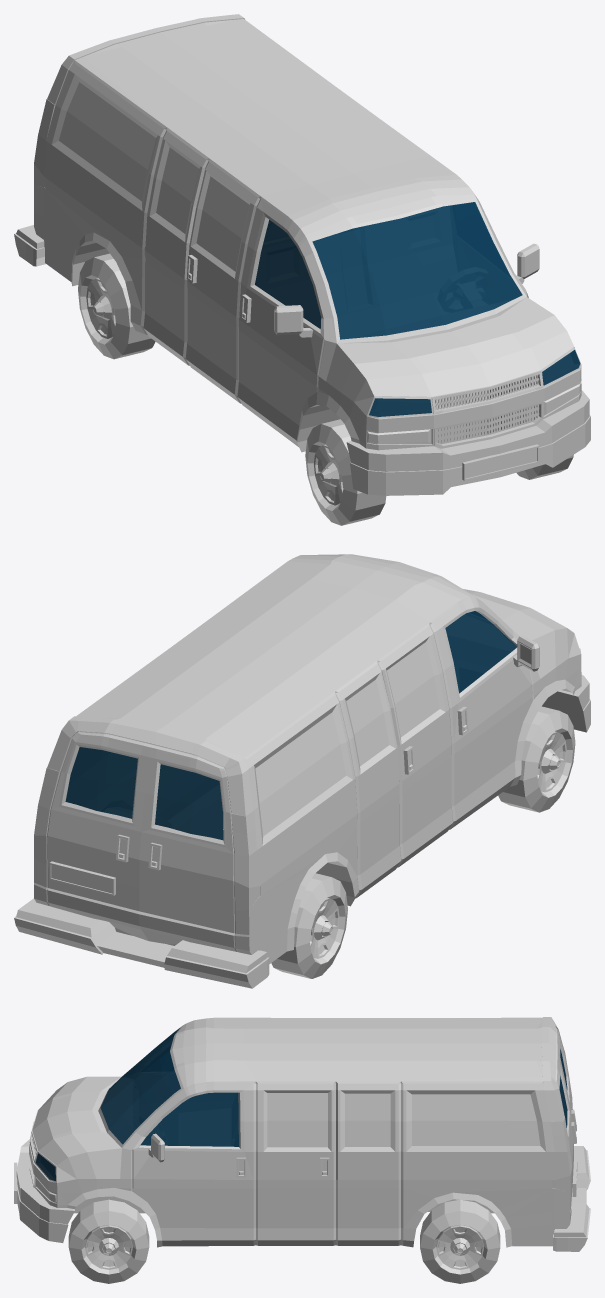
The model's file is van_fixed_wheels.fbx.
3 views of the same model, one above another, from view 1: azimuth 30°, elevation 25°; view 2: azimuth 150°, elevation 25°; view 3: azimuth 270°, elevation 25° (orthographic). The views are drawn at different scales.
Visible parts, largest first — view 1: van_fixed_wheels, van_glass.001; view 2: van_fixed_wheels, van_glass.001; view 3: van_fixed_wheels, van_glass.001.
Boxes of the visible parts, x1=… form: van_fixed_wheels: x1=14, y1=14, x2=590, y2=525; van_glass.001: x1=255, y1=202, x2=580, y2=416; van_fixed_wheels: x1=14, y1=554, x2=590, y2=988; van_glass.001: x1=65, y1=611, x2=516, y2=840; van_fixed_wheels: x1=14, y1=1017, x2=590, y2=1283; van_glass.001: x1=36, y1=1028, x2=567, y2=1181.
Bounding box in the file's own units: 328 × 307 × 803.
